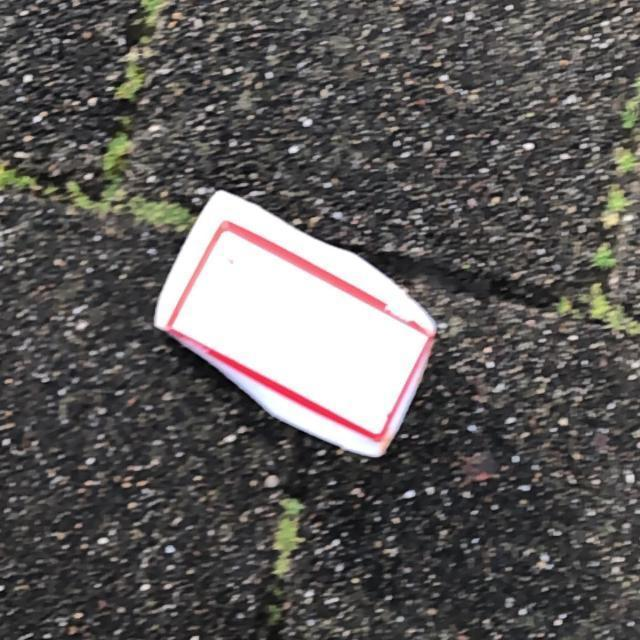Paper: (150, 188, 440, 461)
